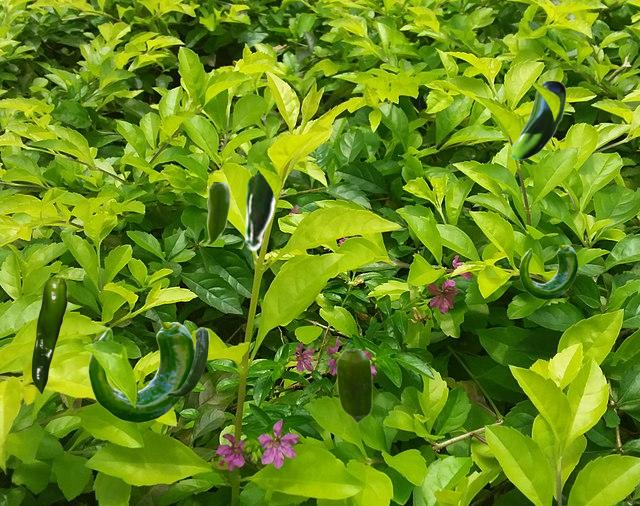green_chili: (88, 322, 194, 421), (509, 81, 564, 159), (31, 279, 66, 393), (519, 245, 577, 298), (166, 328, 208, 396), (242, 172, 278, 250), (336, 349, 371, 422), (203, 182, 229, 245)
